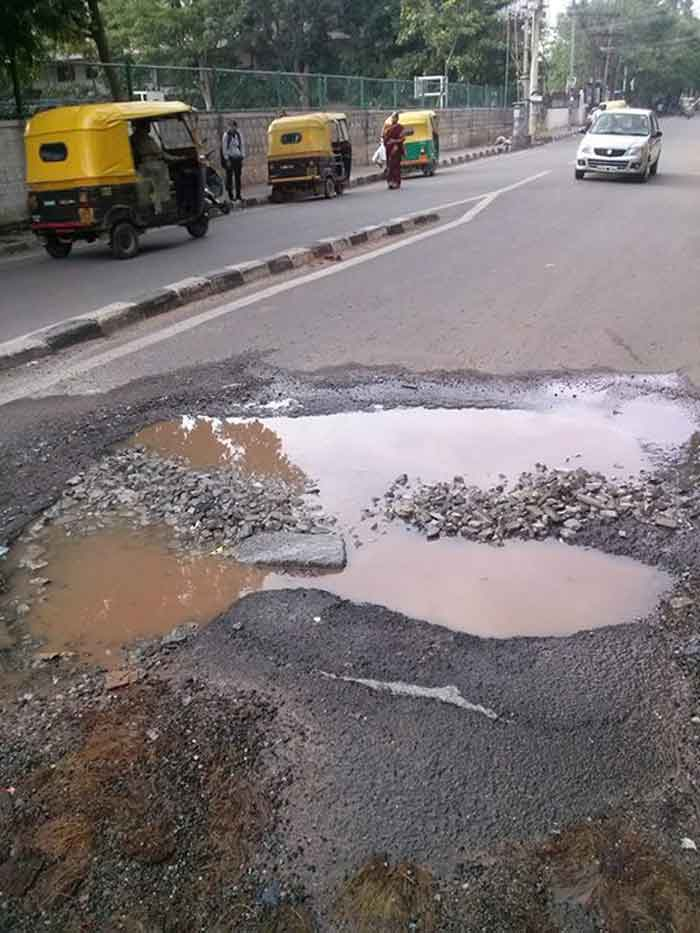pothole: (13, 351, 677, 732)
